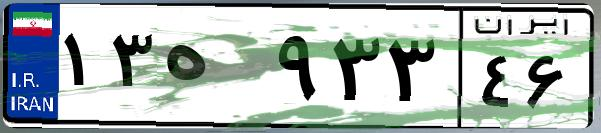1: (57, 26, 110, 100)
3: (385, 28, 445, 110), (330, 28, 385, 110), (110, 28, 158, 98)
4: (475, 38, 525, 113)
6: (525, 38, 570, 115)
9: (270, 28, 330, 110)
ه: (158, 20, 270, 120)
